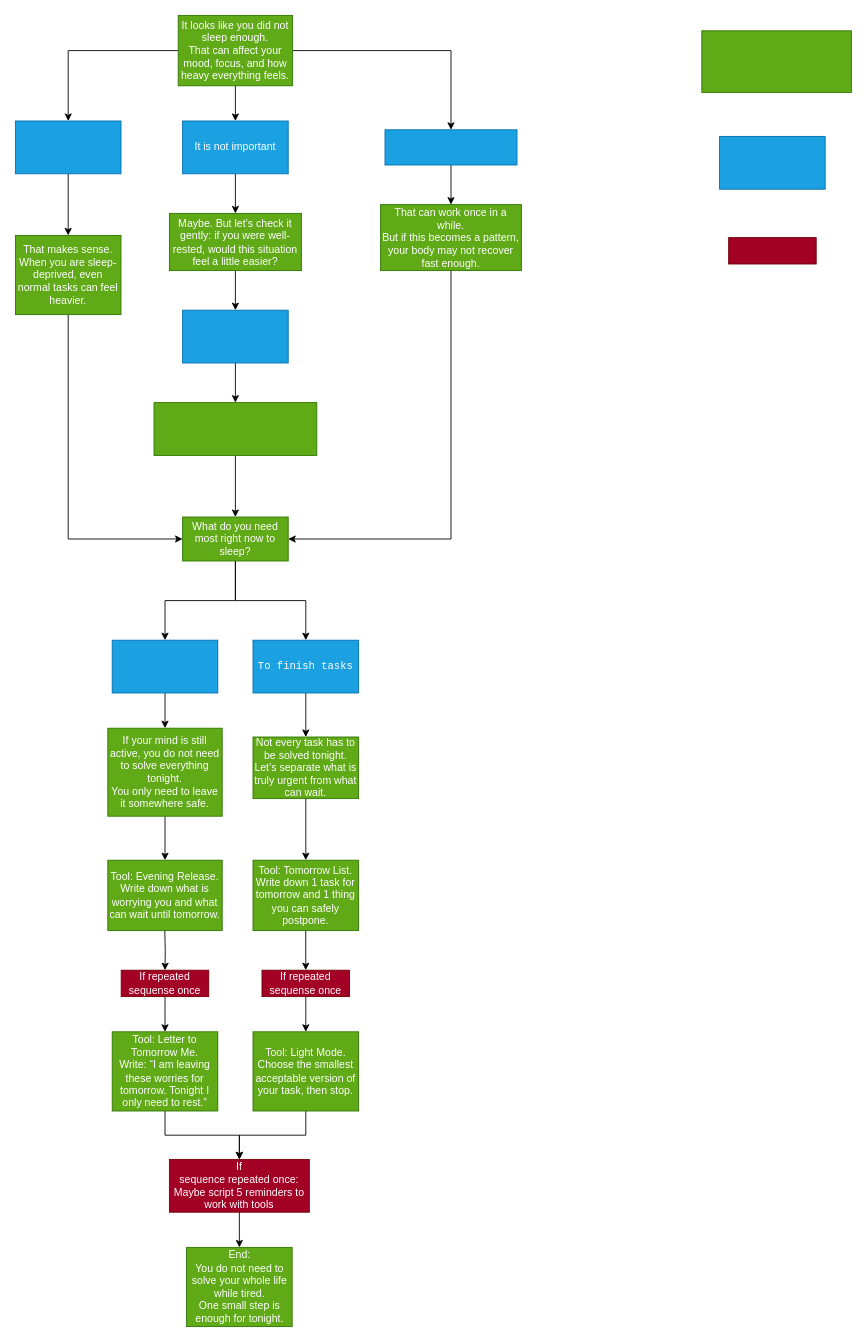
Some shapes in this 867 by 1342 pixel diagram are drawn without their labels. Here are the shapes that lost their labels. From the top down, the centre of each, then its label:
(776,61): System tells block
(68,147): I feel tired
(450,147): I will catch up later
(772,162): User tells block
(772,250): System scripts
(235,336): Yes
(235,428): Sleep may not solve everything, but low sleep can make everything harder.
(164,666): To calm down
